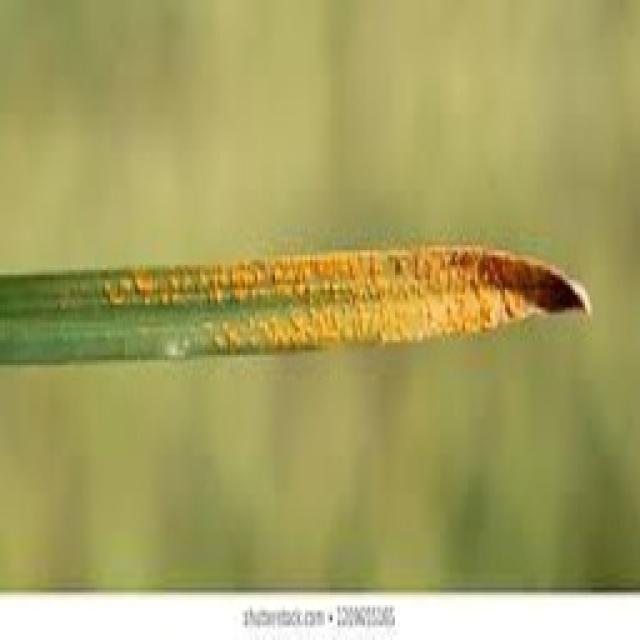Black Rust: (0, 240, 592, 367)
